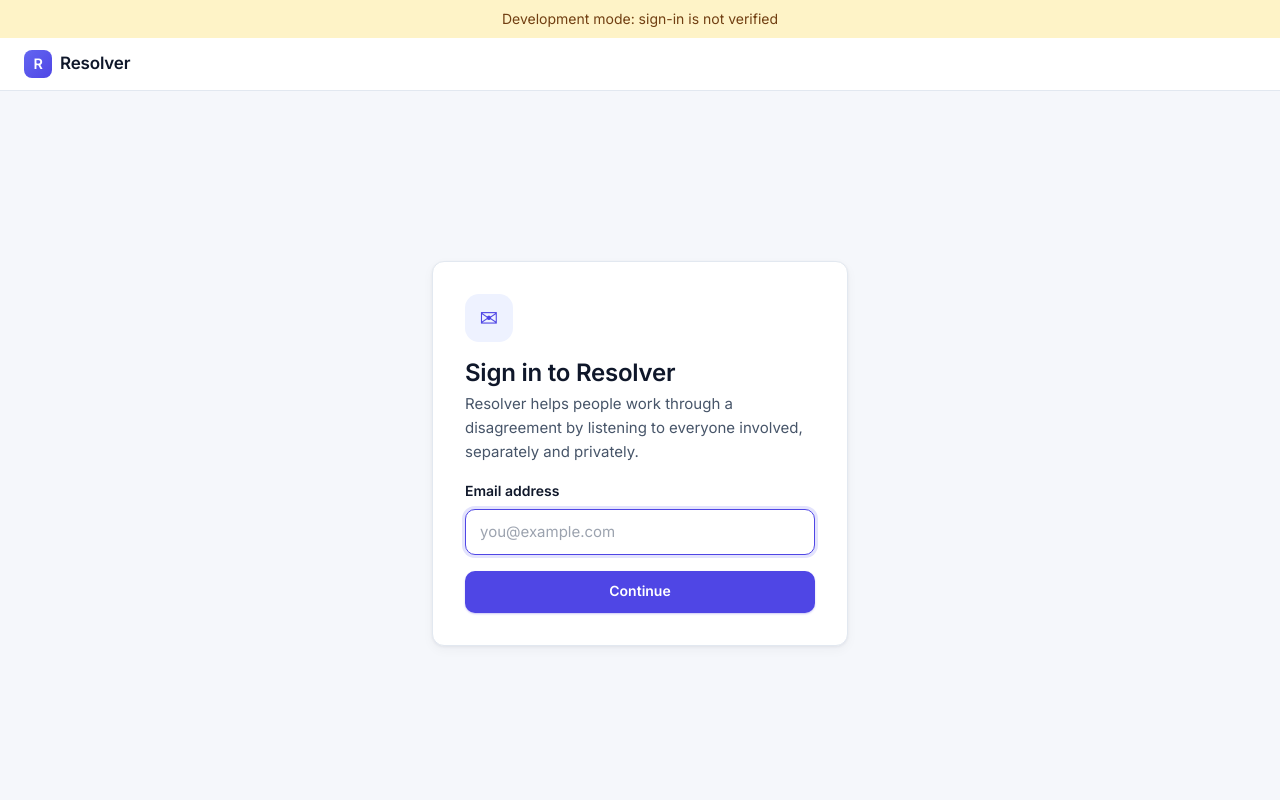
it: My cases › redirects to login when signed out, and signs in (email_only)
The image size is (1280, 800).
Expected: the heading "Sign in to Resolver" is shown, [465,358,675,387]
Expected: the text "Development mode: sign-in is not verified" is shown, [0,0,1279,38]
Type "a@example.com" into the field labelled "Email address".
click(640, 532); type("a@example.com")  # box [465,509,815,555]
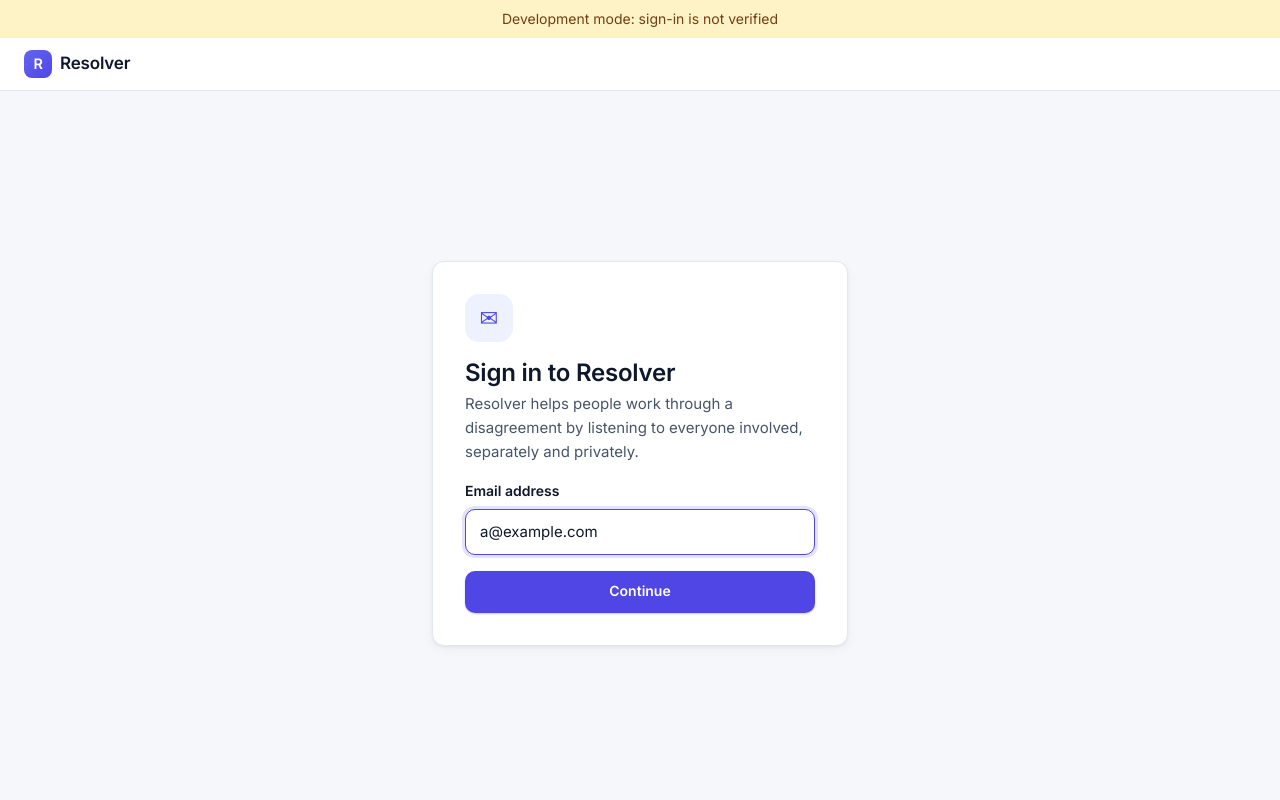
Click the button "Continue".
click(640, 592)  # box [465,571,815,613]
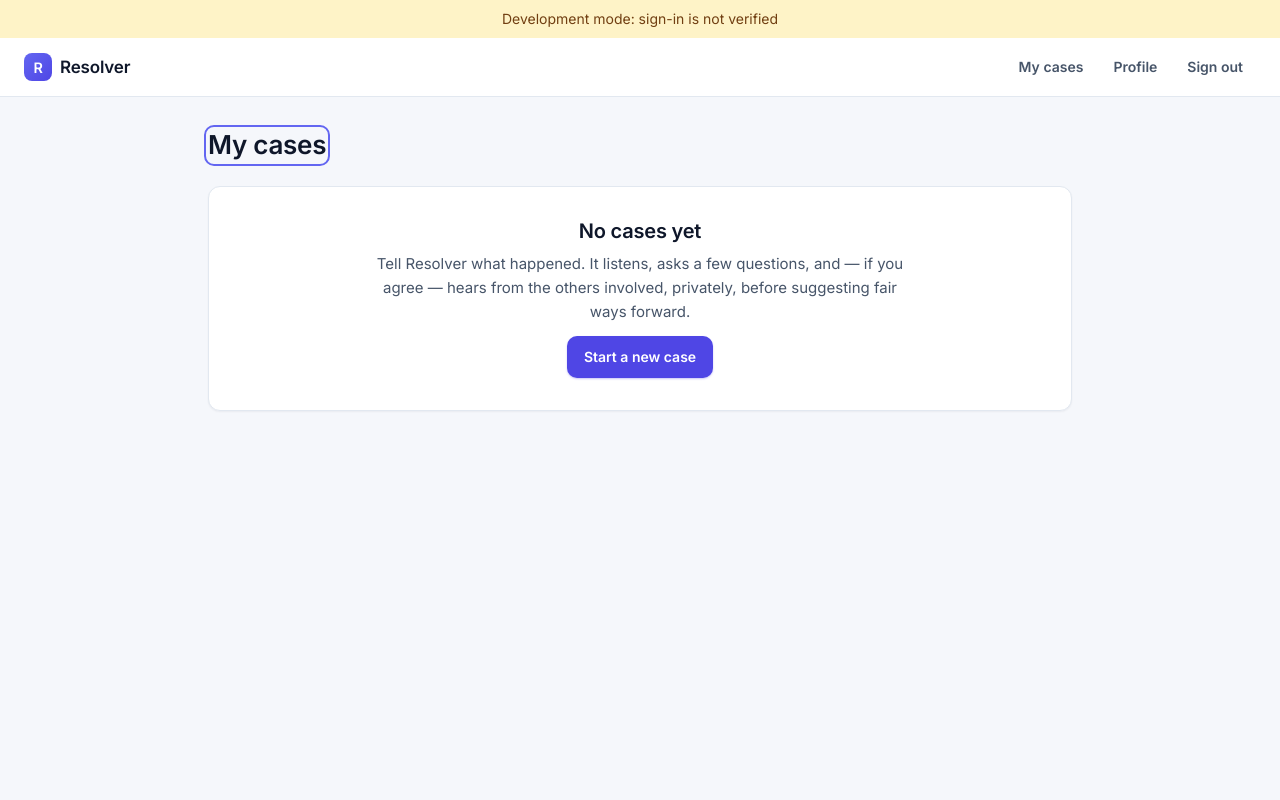
Now the heading "No cases yet" is shown, box [579,219,701,243]
